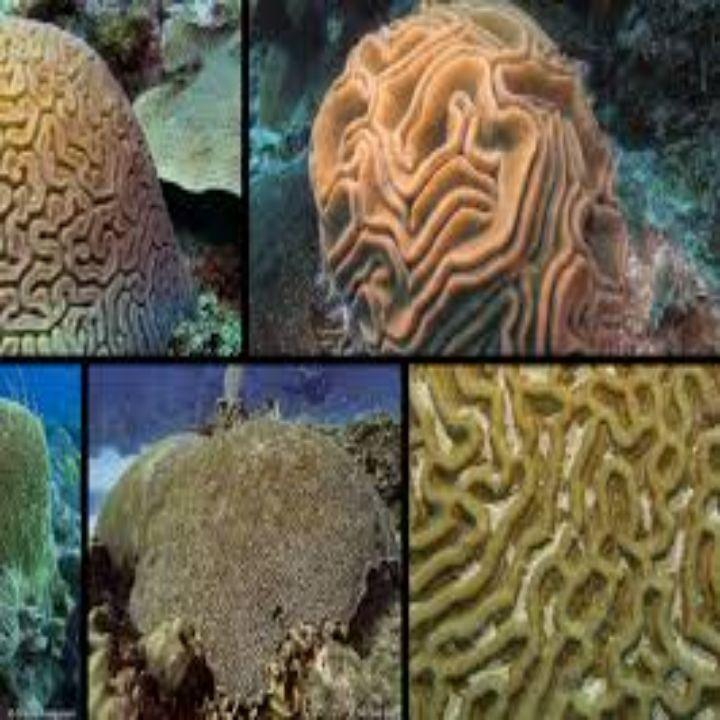Healthy Coral: (8, 22, 699, 687)
